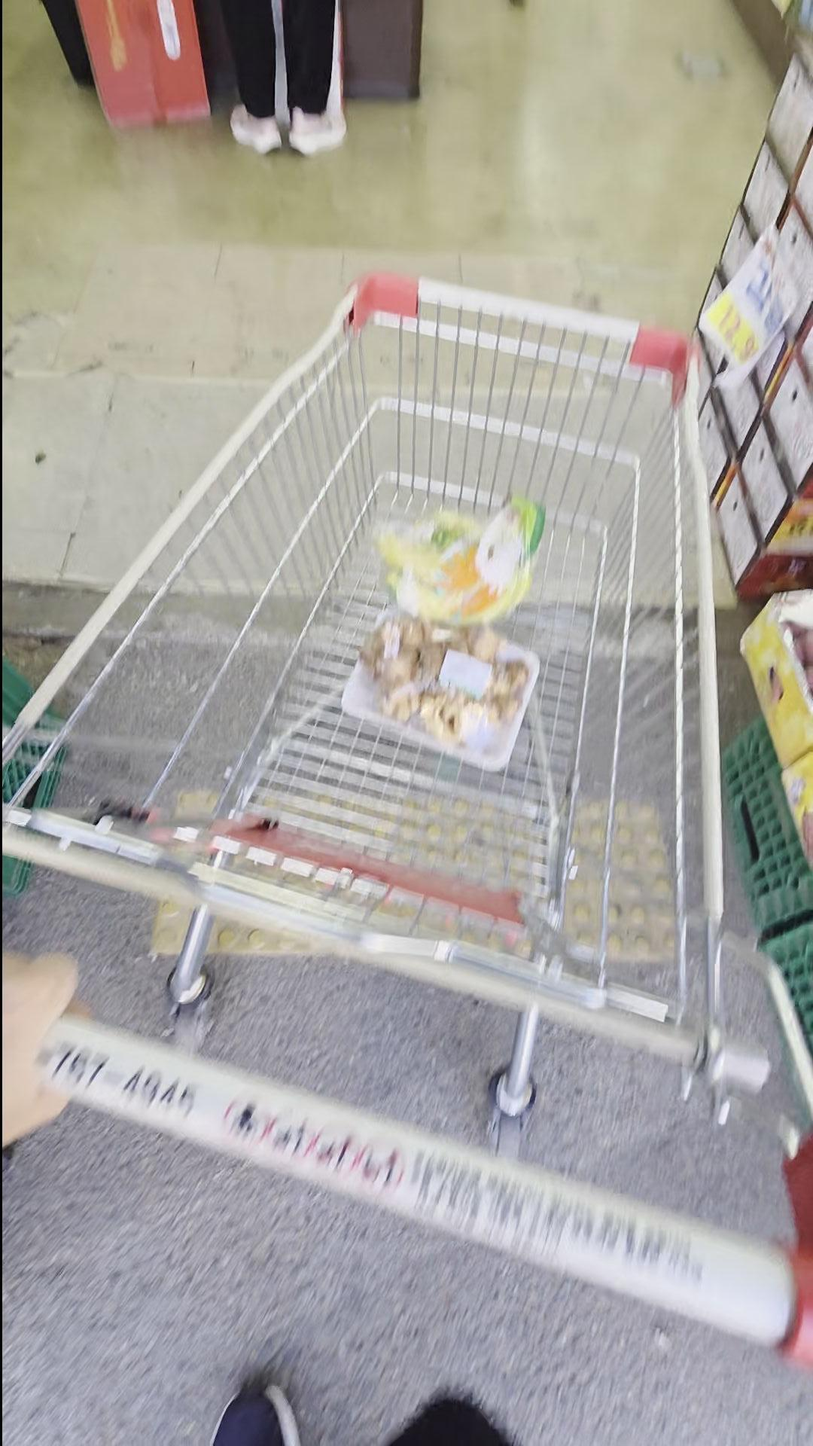fully_cart: (0, 271, 812, 1382)
